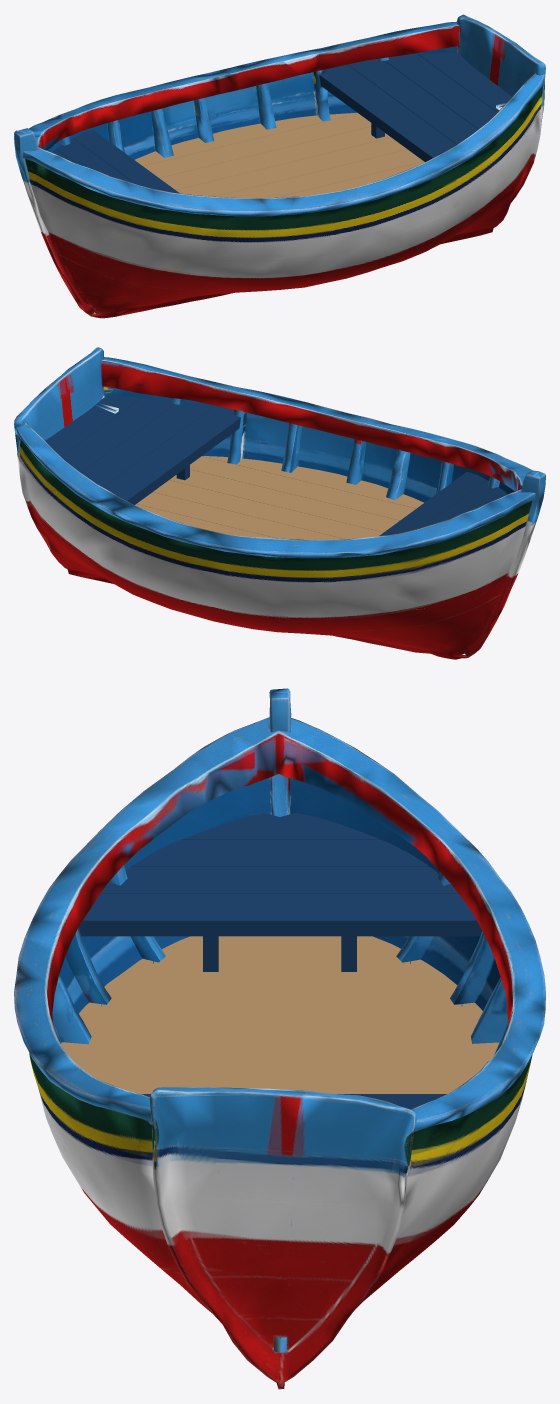
Rendered from obj_bote.fbx.
3 views of the same model, one above another, from view 1: azimuth 30°, elevation 25°; view 2: azimuth 150°, elevation 25°; view 3: azimuth 270°, elevation 25° (orthographic). The views are drawn at different scales.
Visible parts, largest first — view 1: SM_bote; view 2: SM_bote; view 3: SM_bote.
Part boxes in pixels (x1,y1,x2,y2): SM_bote: [14, 14, 545, 318]; SM_bote: [14, 347, 545, 659]; SM_bote: [14, 688, 545, 1389].
Bounding box in the file's own units: 2.05 × 0.864 × 1.23.
